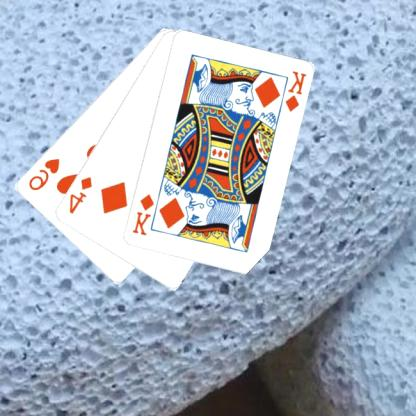4D: (68, 174, 96, 216)
9H: (27, 155, 63, 192)
KD: (130, 191, 158, 237), (284, 68, 309, 113)
